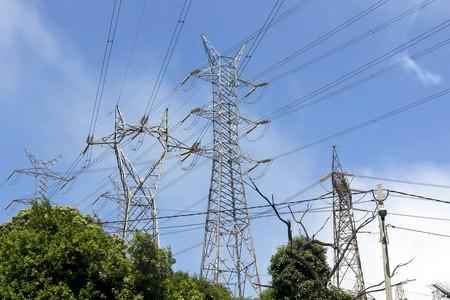power_tower: (180, 32, 274, 294), (85, 97, 193, 260), (319, 142, 370, 295), (4, 145, 74, 207)
